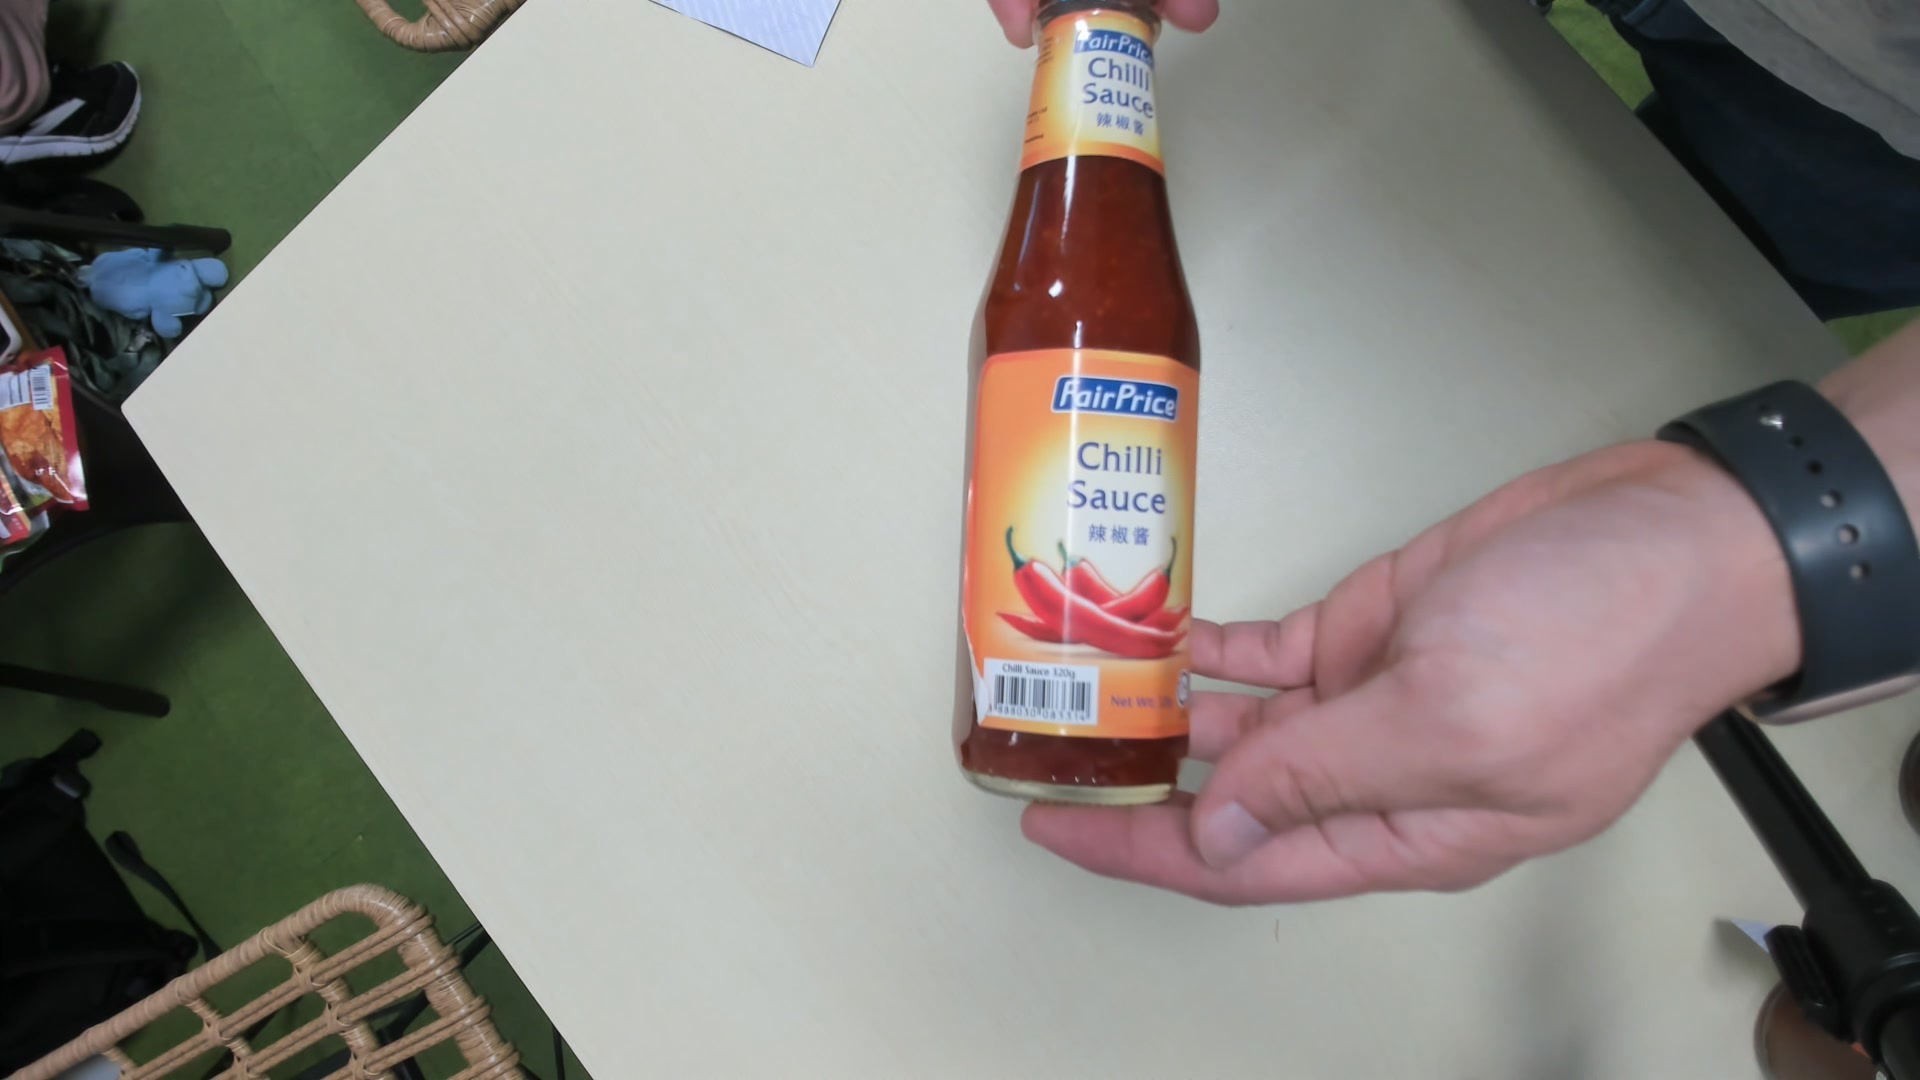KetchupChillSauce_300-399g_Halal_NonHealthy: (944, 3, 1203, 815)
